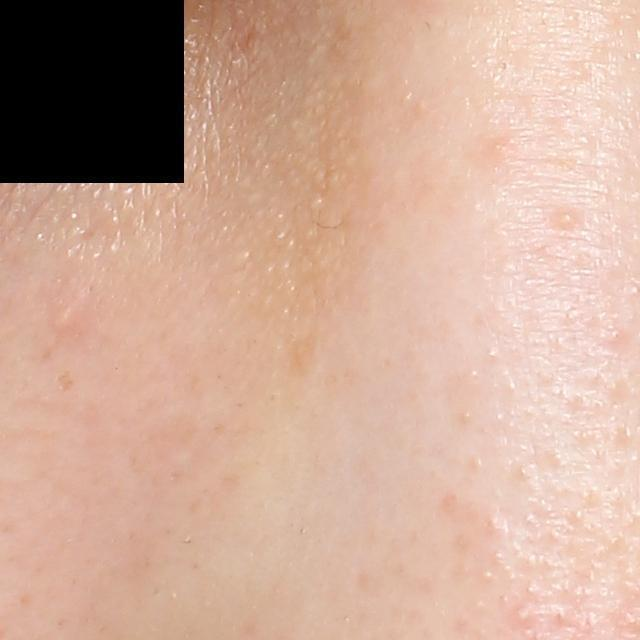comedo: (555, 206, 583, 233), (511, 607, 534, 629)
melasma: (287, 327, 323, 379), (52, 366, 75, 395)
